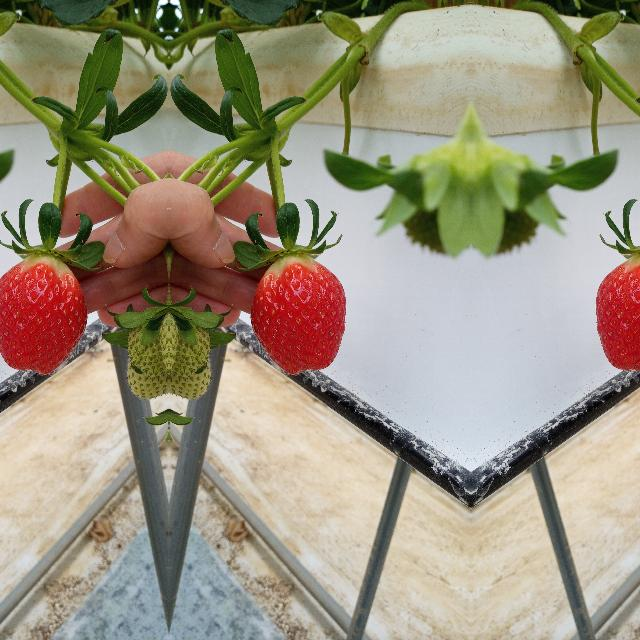Health_100: (249, 254, 345, 376), (0, 253, 87, 376), (596, 253, 640, 376)
